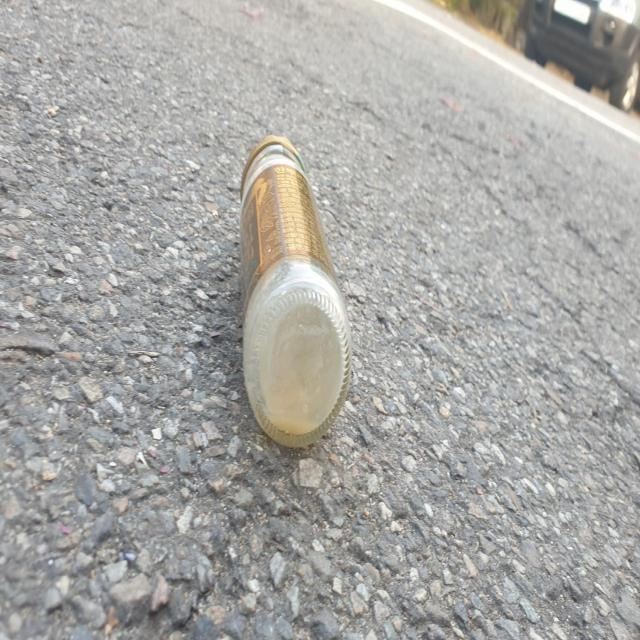glass: (240, 134, 352, 447)
